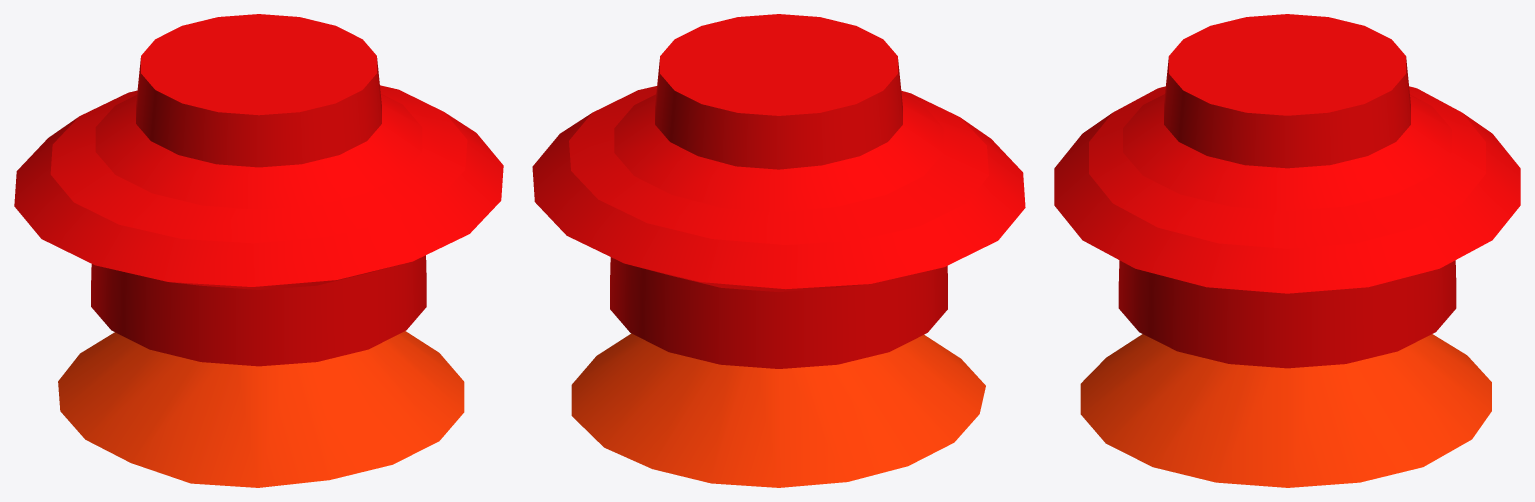
Rendered from Bumper 1.FBX.
3 renders of one model, left to right at view 1: azimuth 30°, elevation 25°; view 2: azimuth 150°, elevation 25°; view 3: azimuth 270°, elevation 25°, orthographic.
Parts seen in each view (by area): view 1: Cylinder003; view 2: Cylinder003; view 3: Cylinder003.
Part boxes in pixels (box(x1,y1,x2,y2)): Cylinder003: box(14, 14, 503, 487); Cylinder003: box(532, 14, 1025, 487); Cylinder003: box(1054, 14, 1520, 487).
Bounding box in the file's own units: 0.6443 × 0.4745 × 0.5947.
